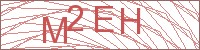2: (67, 4, 85, 32)
E: (93, 4, 115, 35)
H: (118, 7, 143, 36)
M: (40, 16, 69, 45)
